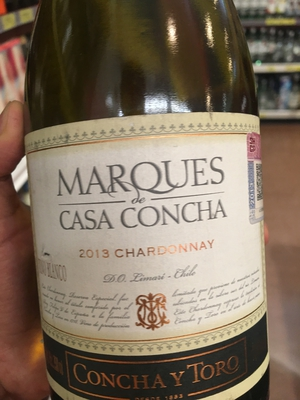marques de casa concha chardonnay: (11, 13, 279, 400)
